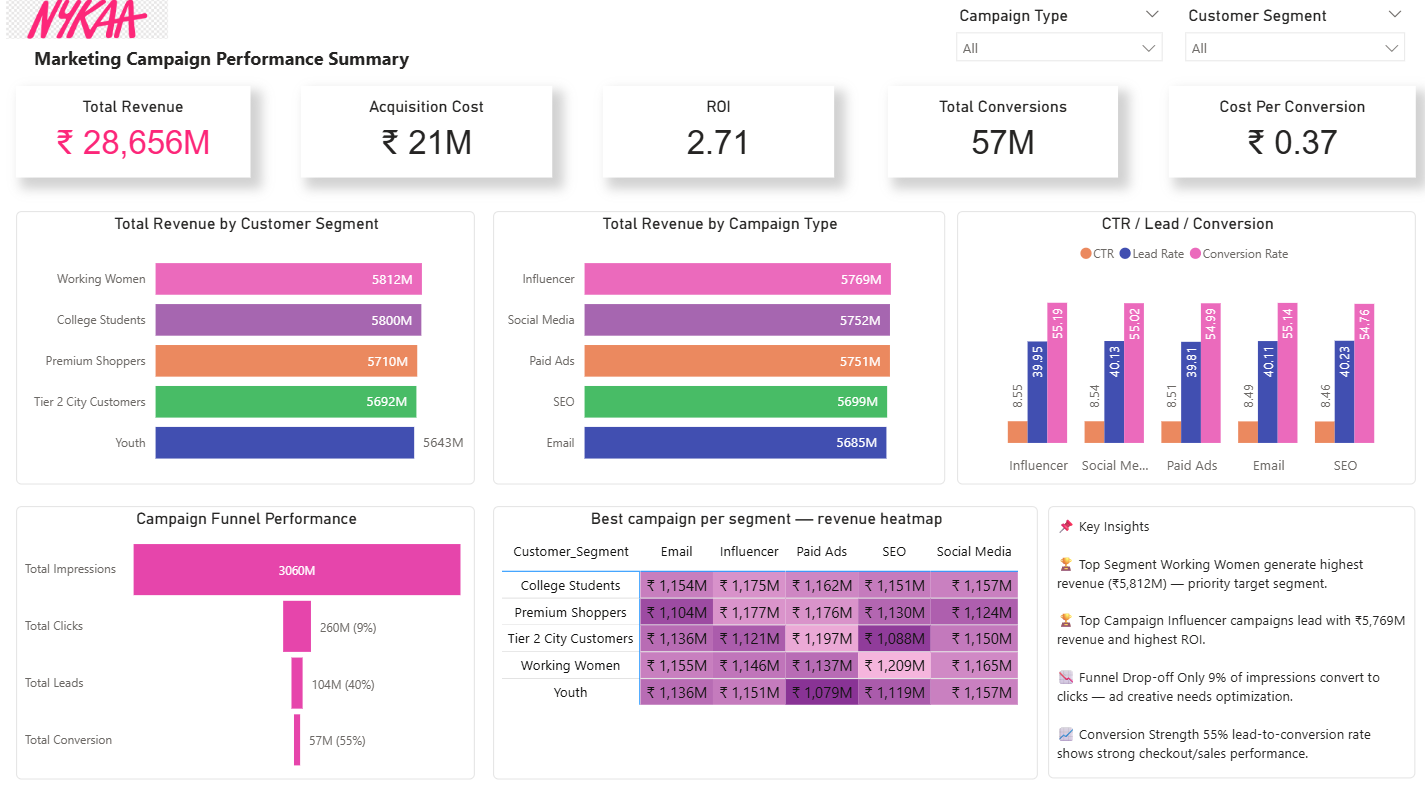

This screenshot's page, from the dashboard's own definition file:
{"tool":"powerbi","page":{"name":"Page 1","canvas":[1280,720],"ordinal":0},"visuals":[{"type":"slicer","fields":{"Values":["nykaa_campaign_data_analysis.Campaign_Type"]},"box":[850.9,7.2,204.8,70],"z":0},{"type":"slicer","fields":{"Values":["nykaa_campaign_data_analysis.Customer_Segment"]},"box":[1055.7,7.2,217.1,70],"z":1000},{"type":"image","box":[0,0,164.6,46.3],"z":2000},{"type":"textbox","box":[18.8,42.1,368.1,34.9],"z":3000},{"type":"card","title":"Total Revenue","fields":{"Values":["nykaa_campaign_data_analysis.Total_Revenue"]},"box":[18.8,83.3,209.6,82.4],"z":4000},{"type":"card","title":"Acquisition Cost","fields":{"Values":["nykaa_campaign_data_analysis.Acquisition Cost"]},"box":[274,83.3,224.8,82.4],"z":5000},{"type":"card","title":"ROI","fields":{"Values":["nykaa_campaign_data_analysis.AVG ROI"]},"box":[544.5,83.3,206.9,82.4],"z":6000},{"type":"card","title":"Total Conversions","fields":{"Values":["nykaa_campaign_data_analysis.Total Conversion"]},"box":[799.7,83.3,206,82.4],"z":7000},{"type":"card","title":"Cost Per Conversion","fields":{"Values":["nykaa_campaign_data_analysis.Cost Per Conversion"]},"box":[1051.3,83.3,221.2,82.4],"z":8000},{"type":"clusteredBarChart","title":"Total Revenue by Customer Segment","fields":{"Y":["nykaa_campaign_data_analysis.Total_Revenue"],"Category":["nykaa_campaign_data_analysis.Customer_Segment"]},"box":[18.8,195.2,411,245.4],"z":9000},{"type":"clusteredBarChart","title":"Total Revenue by Campaign Type","fields":{"Y":["nykaa_campaign_data_analysis.Total_Revenue"],"Category":["nykaa_campaign_data_analysis.Campaign_Type"]},"box":[446,195.2,404.8,245.4],"z":10000},{"type":"clusteredColumnChart","title":"CTR / Lead  / Conversion ","fields":{"Category":["nykaa_campaign_data_analysis.Campaign_Type"],"Y":["nykaa_campaign_data_analysis.CTR","nykaa_campaign_data_analysis.Lead Rate","nykaa_campaign_data_analysis.Conversion Rate"]},"box":[861.5,195.2,411,245.4],"z":11000},{"type":"funnel","title":"Campaign Funnel Performance","fields":{"Y":["nykaa_campaign_data_analysis.Total Impressions","nykaa_campaign_data_analysis.Total Clicks","nykaa_campaign_data_analysis.Total Leads","nykaa_campaign_data_analysis.Total Conversion"]},"box":[18.8,459.4,411,245.4],"z":12000},{"type":"pivotTable","title":"Best campaign per segment — revenue heatmap","fields":{"Rows":["nykaa_campaign_data_analysis.Customer_Segment"],"Columns":["nykaa_campaign_data_analysis.Campaign_Type"],"Values":["nykaa_campaign_data_analysis.Total_Revenue"]},"box":[446,459.4,488.1,245.4],"z":13000},{"type":"textbox","box":[943,459.4,328.7,244.5],"z":13001}]}

Visuals, with their boxes in screenshot pixels (x1, y1, x2, y2), scaled from the page's 1280x720 canvas onto the 1425x792 screenshot:
slicer - nykaa_campaign_data_analysis.Campaign_Type: 947 8 1175 85
slicer - nykaa_campaign_data_analysis.Customer_Segment: 1175 8 1417 85
image: 0 0 183 51
textbox: 21 46 431 85
"Total Revenue" card: 21 92 254 182
"Acquisition Cost" card: 305 92 555 182
"ROI" card: 606 92 837 182
"Total Conversions" card: 890 92 1120 182
"Cost Per Conversion" card: 1170 92 1417 182
"Total Revenue by Customer Segment" clusteredBarChart: 21 215 478 485
"Total Revenue by Campaign Type" clusteredBarChart: 497 215 947 485
"CTR / Lead  / Conversion " clusteredColumnChart: 959 215 1417 485
"Campaign Funnel Performance" funnel: 21 505 478 775
"Best campaign per segment — revenue heatmap" pivotTable: 497 505 1040 775
textbox: 1050 505 1416 774
